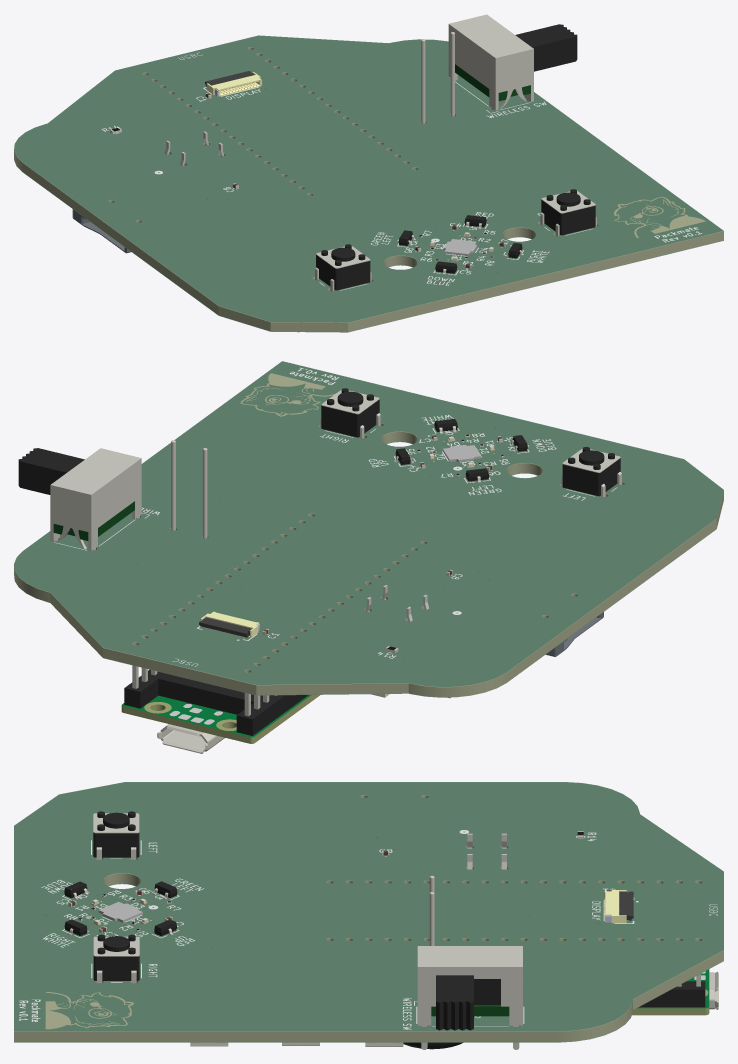
Rendered from packmate.glb.
The picture shows the model from 3 angles, top to bottom: view 1: azimuth 30°, elevation 25°; view 2: azimuth 150°, elevation 25°; view 3: azimuth 270°, elevation 25°; orthographic projection. The views are drawn at different scales.
Visible parts, largest first — view 1: =>[0:1:1:38], =>[0:1:1:36], =>[0:1:1:17], =>[0:1:1:7] (×2), =>[0:1:1:34], =>[0:1:1:11], =>[0:1:1:29], =>[0:1:1:37]; view 2: =>[0:1:1:38], =>[0:1:1:36], =>[0:1:1:17], RaspberryPi_Pico_H_Header_DIP-40_H2.54mm_KiCad, =>[0:1:1:7] (×2), RaspberryPi_Pico_H_Module_KiCad, =>[0:1:1:34], =>[0:1:1:11], =>[0:1:1:29], =>[0:1:1:37]; view 3: =>[0:1:1:38], =>[0:1:1:36], =>[0:1:1:17], =>[0:1:1:7] (×2), =>[0:1:1:34], RaspberryPi_Pico_H_Module_KiCad, RaspberryPi_Pico_H_Header_DIP-40_H2.54mm_KiCad, =>[0:1:1:11], =>[0:1:1:37], =>[0:1:1:29], =>[0:1:1:19].
Part boxes in pixels (x1=…): =>[0:1:1:38]: x1=14, y1=36, x2=723, y2=332; =>[0:1:1:36]: x1=14, y1=35, x2=723, y2=322; =>[0:1:1:17]: x1=448, y1=14, x2=577, y2=110; =>[0:1:1:7] (×2): x1=315, y1=189, x2=596, y2=291; =>[0:1:1:34]: x1=102, y1=52, x2=702, y2=290; =>[0:1:1:11]: x1=205, y1=71, x2=262, y2=96; =>[0:1:1:29]: x1=421, y1=32, x2=454, y2=123; =>[0:1:1:37]: x1=14, y1=161, x2=723, y2=332; =>[0:1:1:38]: x1=14, y1=362, x2=723, y2=697; =>[0:1:1:36]: x1=14, y1=361, x2=723, y2=686; =>[0:1:1:17]: x1=18, y1=448, x2=141, y2=550; RaspberryPi_Pico_H_Header_DIP-40_H2.54mm_KiCad: x1=124, y1=516, x2=405, y2=735; =>[0:1:1:7] (×2): x1=320, y1=388, x2=621, y2=496; RaspberryPi_Pico_H_Module_KiCad: x1=121, y1=695, x2=319, y2=753; =>[0:1:1:34]: x1=54, y1=367, x2=617, y2=666; =>[0:1:1:11]: x1=199, y1=611, x2=259, y2=637; =>[0:1:1:29]: x1=171, y1=440, x2=207, y2=538; =>[0:1:1:37]: x1=14, y1=441, x2=716, y2=697; =>[0:1:1:38]: x1=14, y1=783, x2=723, y2=1042; =>[0:1:1:36]: x1=14, y1=782, x2=723, y2=1031; =>[0:1:1:17]: x1=417, y1=946, x2=522, y2=1049; =>[0:1:1:7] (×2): x1=93, y1=811, x2=139, y2=983; =>[0:1:1:34]: x1=19, y1=830, x2=717, y2=1029; RaspberryPi_Pico_H_Module_KiCad: x1=632, y1=969, x2=718, y2=1015; RaspberryPi_Pico_H_Header_DIP-40_H2.54mm_KiCad: x1=639, y1=973, x2=705, y2=1007; =>[0:1:1:11]: x1=604, y1=890, x2=633, y2=923; =>[0:1:1:37]: x1=14, y1=883, x2=723, y2=1042; =>[0:1:1:29]: x1=403, y1=875, x2=462, y2=1049; =>[0:1:1:19]: x1=98, y1=901, x2=142, y2=922.
Bounding box in the file's own units: 0.0845 × 0.0264 × 0.0929.
